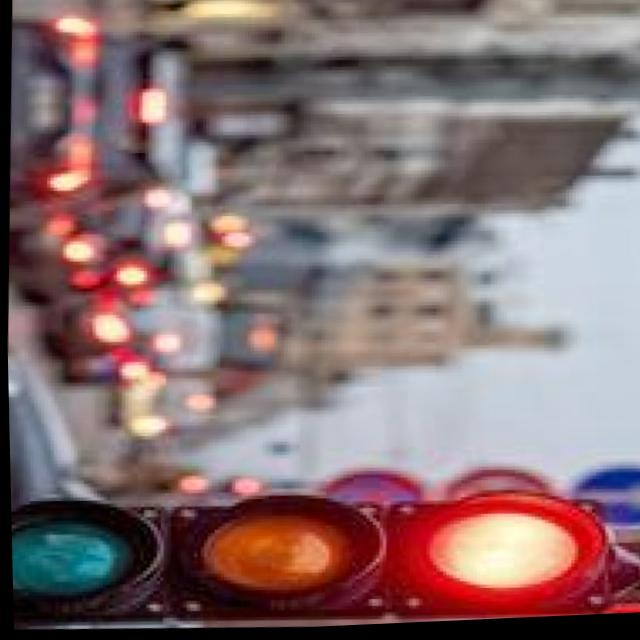green_light: (8, 454, 168, 634)
red_light: (366, 468, 622, 627)
yellow_light: (143, 478, 370, 635)
